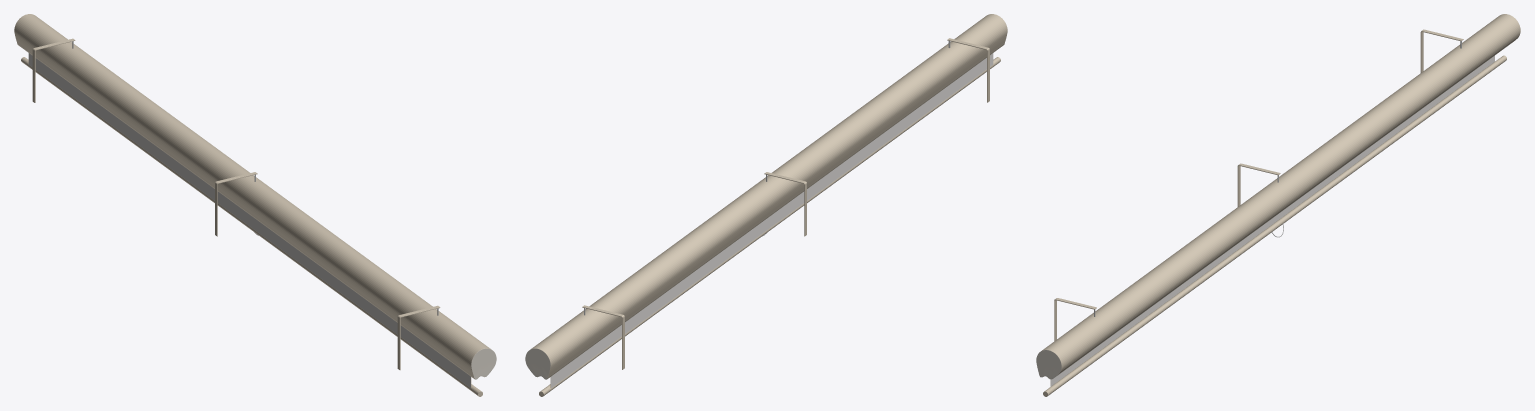
The model's file is ProjectorScreen.FBX.
3 renders of one model, left to right at view 1: azimuth 30°, elevation 25°; view 2: azimuth 150°, elevation 25°; view 3: azimuth 330°, elevation 25°, orthographic.
Visible parts, largest first — view 1: Cylinder003; view 2: Cylinder003; view 3: Cylinder003.
Boxes of the visible parts, x1,y1,x2,y2 form: Cylinder003: (14, 14, 496, 396); Cylinder003: (525, 14, 1007, 396); Cylinder003: (1036, 14, 1520, 396).
Bounding box in the file's own units: 20.45 × 23.46 × 310.
